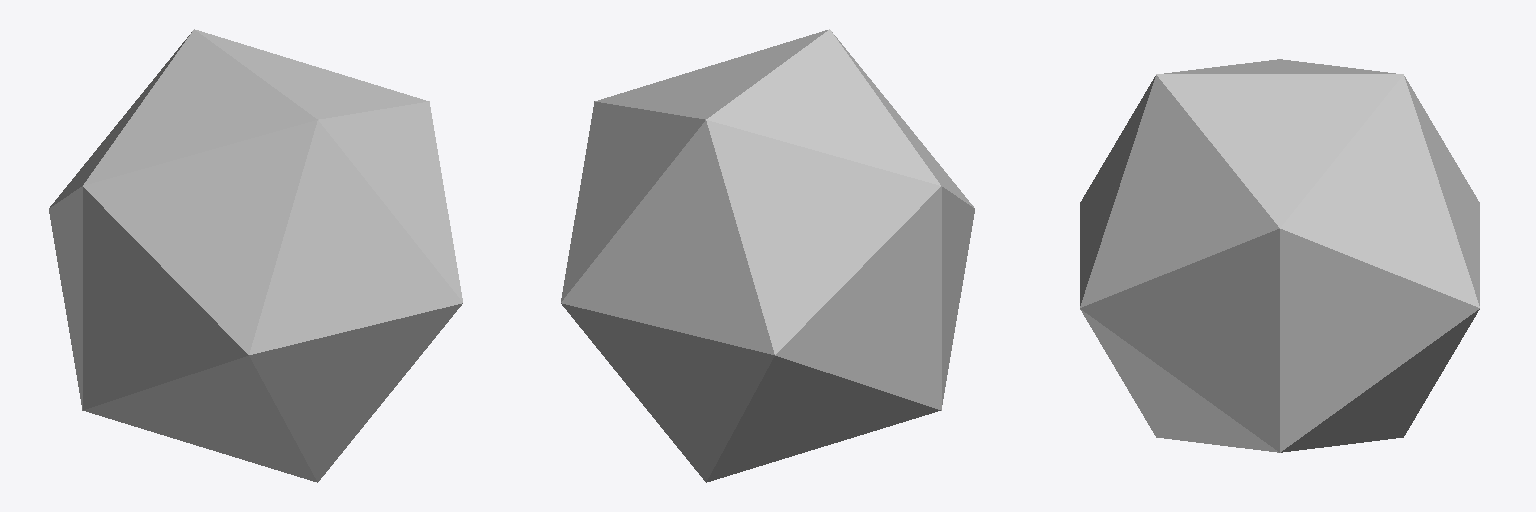
Rendered from icosahedron.obj.
3 renders of one model, left to right at view 1: azimuth 30°, elevation 25°; view 2: azimuth 150°, elevation 25°; view 3: azimuth 270°, elevation 25°, orthographic.
Parts seen in each view (by area): view 1: icosahedron; view 2: icosahedron; view 3: icosahedron.
Part boxes in pixels (x1,y1,x2,y2): icosahedron: (49,29,462,482); icosahedron: (561,29,974,482); icosahedron: (1080,59,1479,452).
Size of the model in its own units: 1.62 by 1.62 by 1.62.